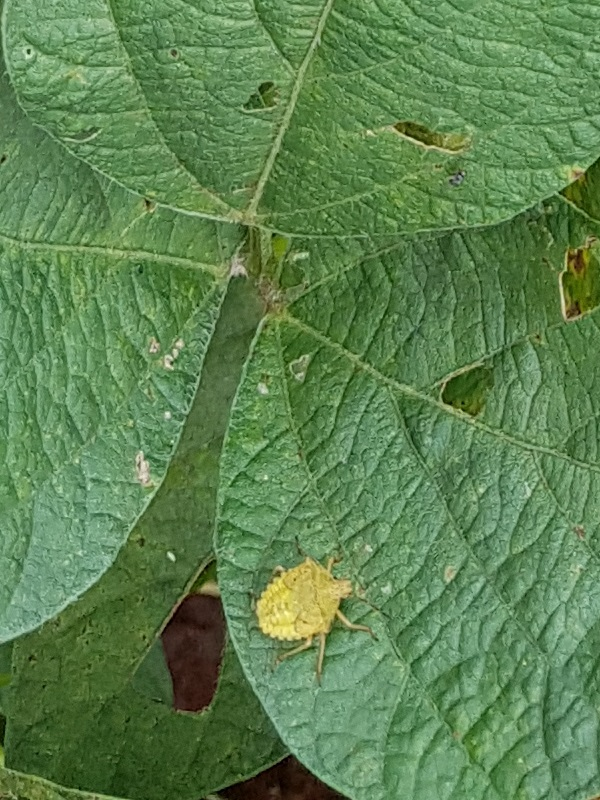Euschistus_heros_ninfa: (225, 536, 398, 690)
